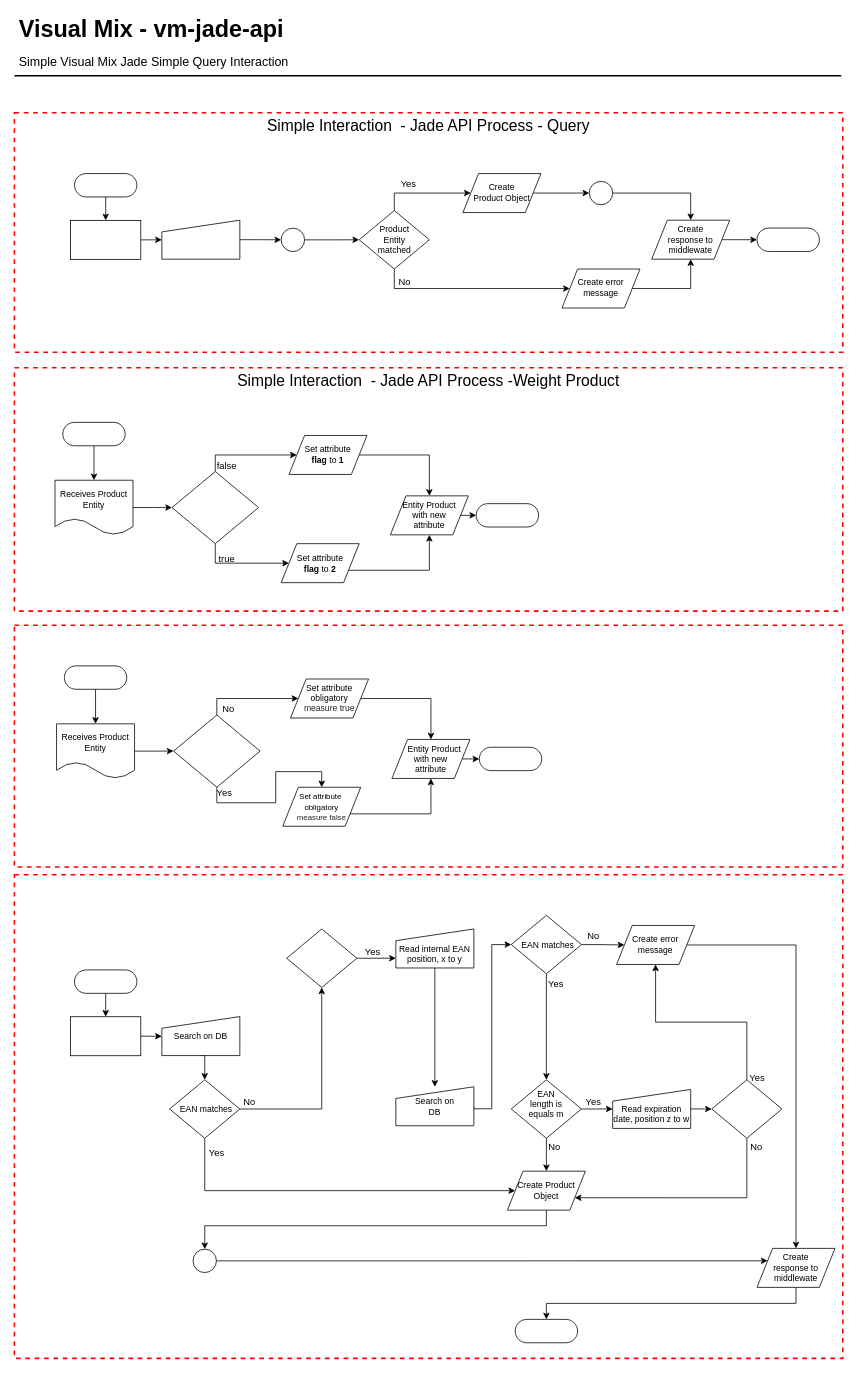
Some shapes in this 856 by 1373 pixel diagram are drawn without their labels. The shapes that lost their labels are listed below. From the top down, each one's box as (x1, y1, x2, y2) in pixels, then its label:
(589, 181, 613, 205): Weight product(Rotine) Jade API
(70, 220, 141, 259): API receives EAN from middleware
(161, 219, 240, 259): Search on vm-products-api
(280, 227, 305, 252): vm-products-api(Rotine) FindByBarcode
(171, 471, 259, 544): Attribute obligatory measure
(173, 714, 260, 787): peso_variavel or qtd_decimal equals 0
(13, 624, 843, 867): Simple Interaction - Products API Process -Weight Product
(286, 928, 357, 987): EAN first digit equals 2
(70, 1016, 141, 1056): API receives EAN
(13, 874, 843, 1359): Simple Interaction - Products API Process - FindByBarcode
(711, 1079, 782, 1138): EAN expiraded
(192, 1248, 216, 1273): Weight product(Rotine) vm-products-api
